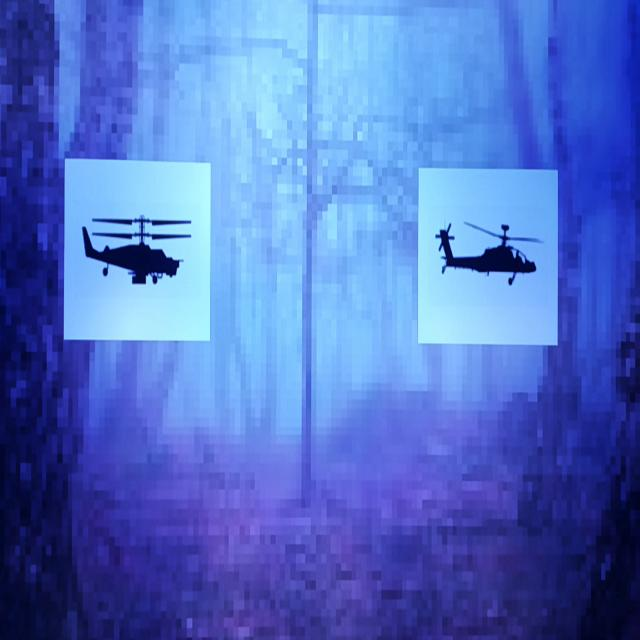Apache friendly: (436, 223, 541, 285)
Ka-52 Enemy: (83, 217, 190, 283)
